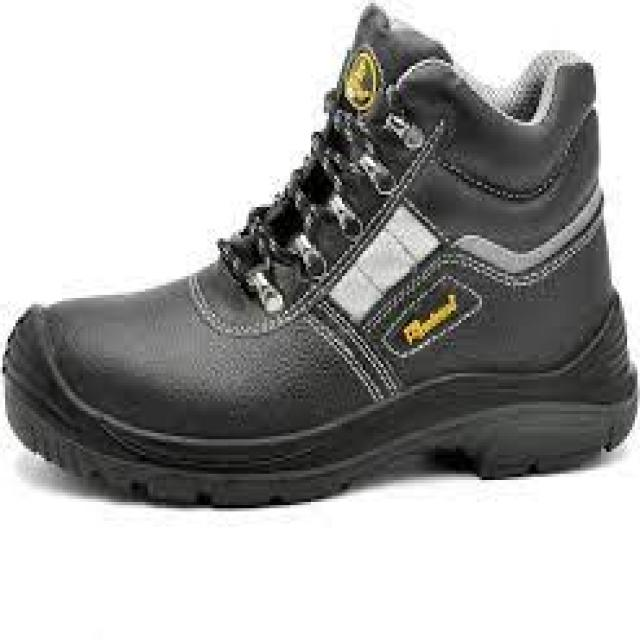shoes: (7, 6, 636, 503)
